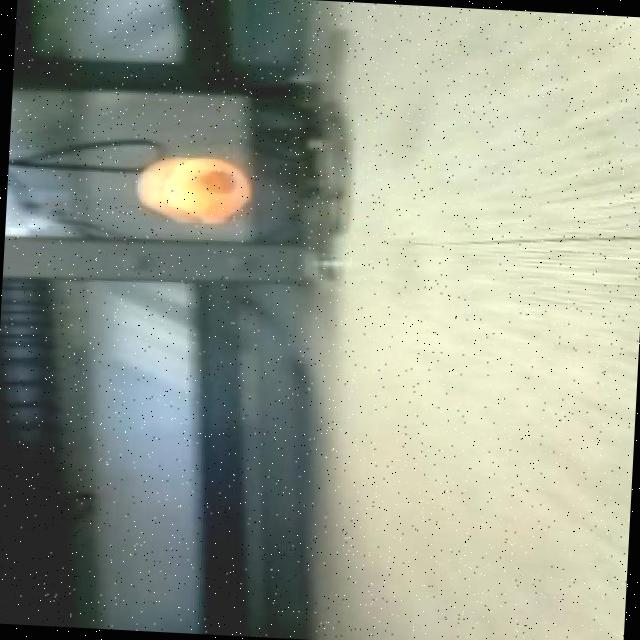ping-pong-ball: (135, 145, 267, 224)
